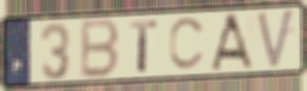3: (39, 20, 72, 82)
A: (208, 12, 256, 72)
B: (78, 17, 122, 81)
C: (167, 15, 208, 73)
T: (128, 19, 160, 74)
V: (255, 7, 297, 73)
